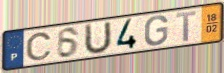4: (115, 17, 139, 51)
6: (56, 27, 81, 59)
C: (25, 32, 54, 62)
G: (143, 14, 170, 47)
T: (175, 10, 198, 43)
U: (83, 19, 114, 57)
